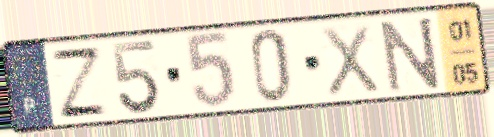0: (248, 26, 297, 106)
5: (181, 28, 239, 113), (108, 37, 163, 117)
N: (377, 14, 444, 96)
X: (318, 21, 383, 100)
Z: (47, 45, 112, 120)
